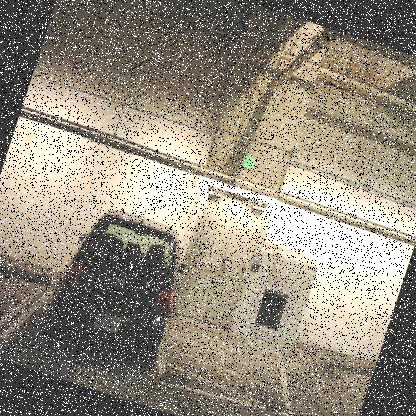Car: (40, 159, 209, 370)
